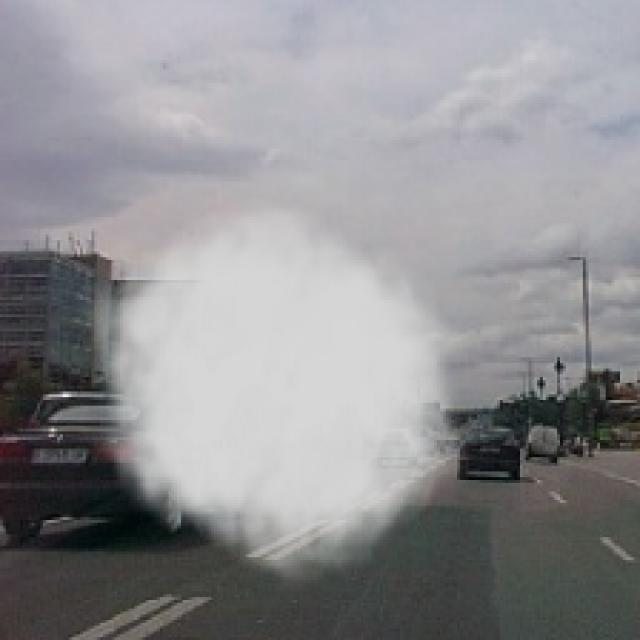smoke: (74, 186, 469, 591)
